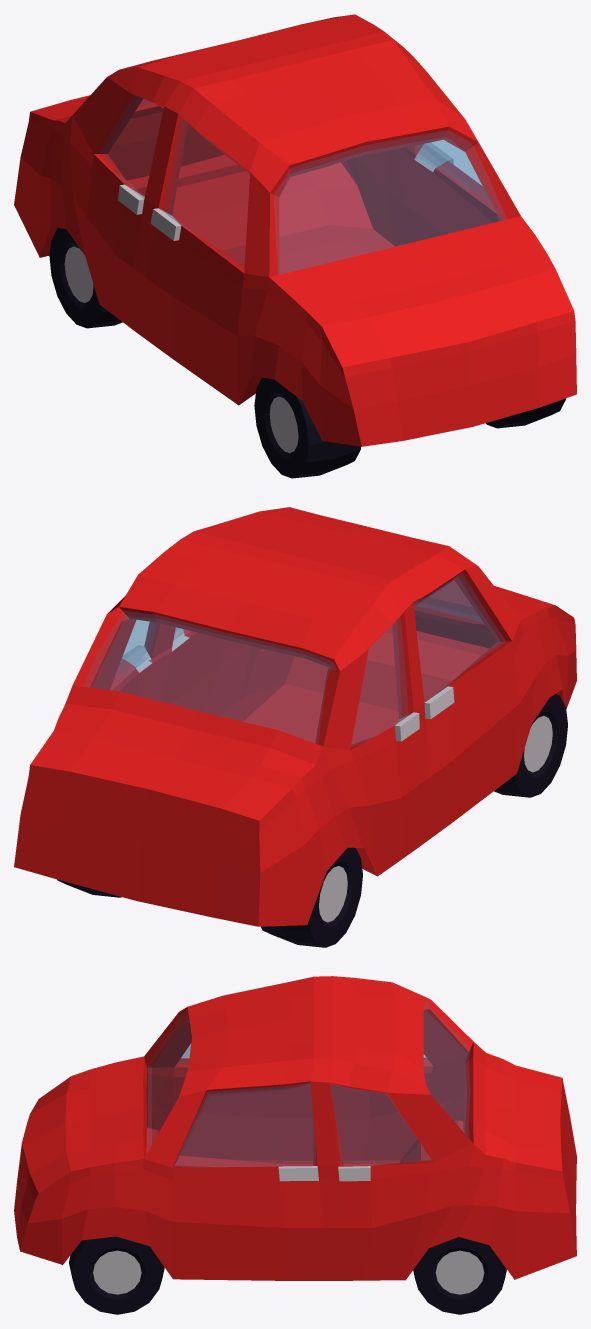
The model's file is car.fbx.
The picture shows the model from 3 angles, top to bottom: view 1: azimuth 30°, elevation 25°; view 2: azimuth 150°, elevation 25°; view 3: azimuth 270°, elevation 25°; orthographic projection. The views are drawn at different scales.
Parts seen in each view (by area): view 1: Car, Car_Windows, Car_WheelsFront, Car_WheelsBack; view 2: Car, Car_Windows, Car_WheelsBack, Car_WheelsFront; view 3: Car, Car_Windows, Car_WheelsFront, Car_WheelsBack.
Boxes of the visible parts, x1,y1,x2,y2 form: Car: (14,14,576,446); Car_Windows: (100,95,505,274); Car_WheelsFront: (254,377,565,478); Car_WheelsBack: (49,227,122,328); Car: (14,507,576,926); Car_Windows: (84,573,505,746); Car_WheelsBack: (57,847,362,947); Car_WheelsFront: (494,694,567,797); Car: (14,976,576,1280); Car_Windows: (148,1002,469,1166); Car_WheelsFront: (69,1236,164,1314); Car_WheelsBack: (413,1237,506,1314).
Bounding box in the file's own units: 118 × 118 × 242.
